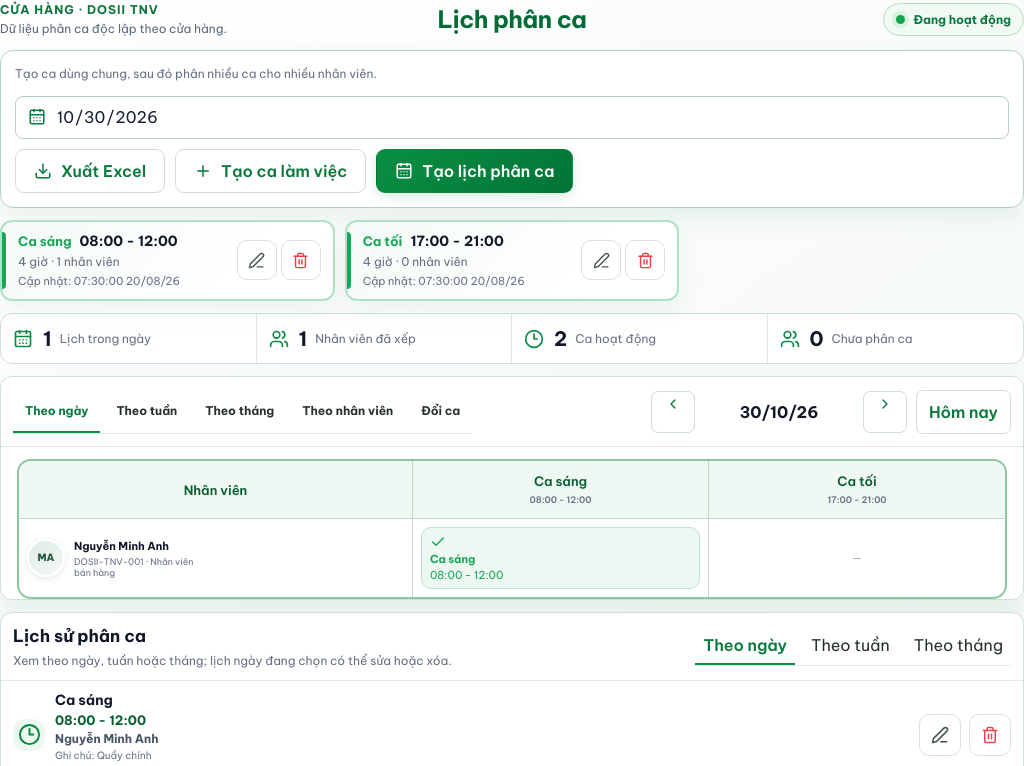
Test: store schedule visual flow › submits only the added evening shift after the same employee completed an earlier shift
Click the button "Tạo lịch phân ca" at (475, 171), box [376,149,573,193]
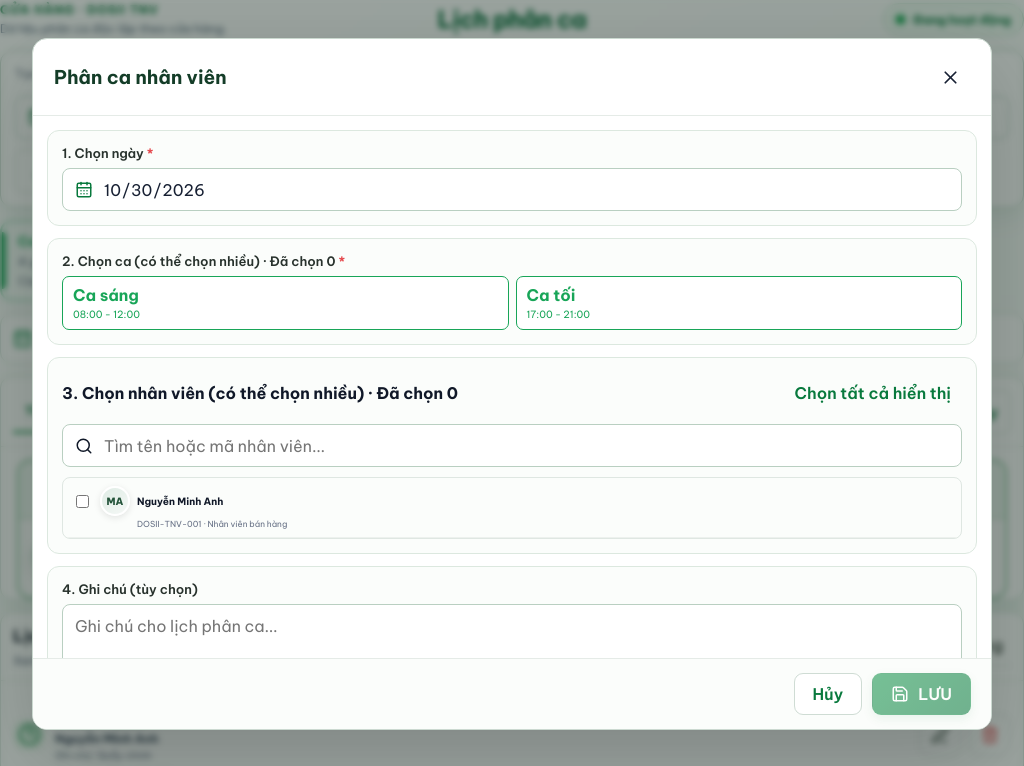
Click the button with aria-label "Chọn Ca tối" at (551, 295), box [516,276,962,330]
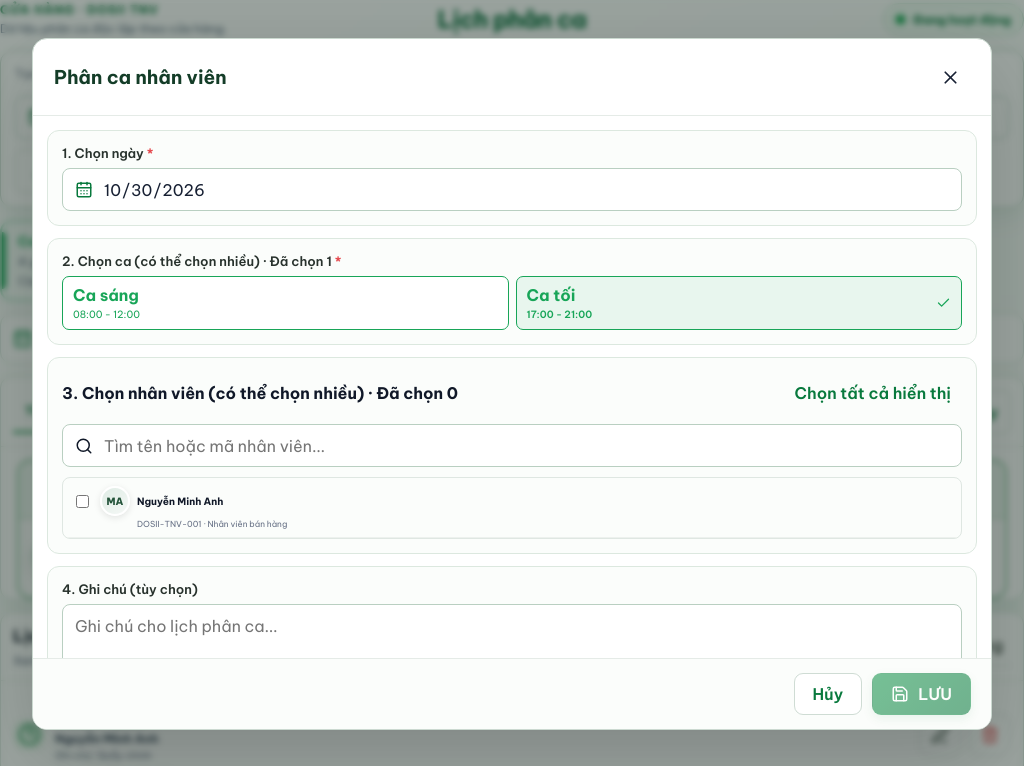
Click the checkbox labelled "MA Nguyễn Minh Anh DOSII-TNV-001 · Nhân viên bán hàng" at (82, 501), box [75,495,90,508]
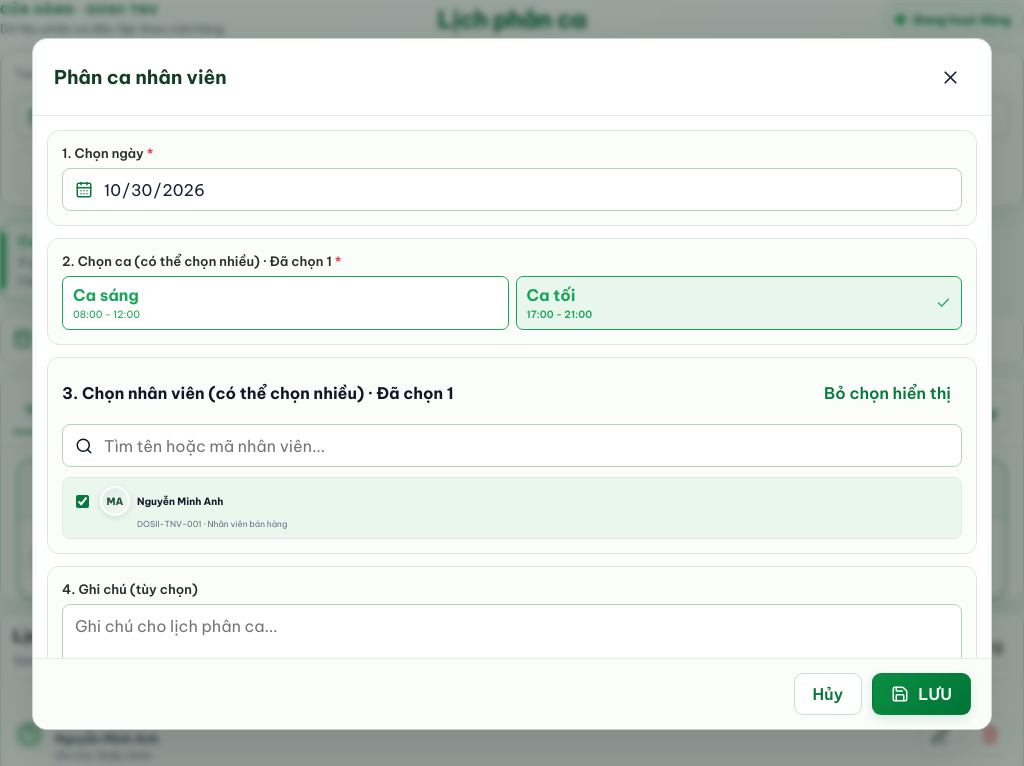
Click the button "LƯU" at (922, 694), box [872,673,971,715]
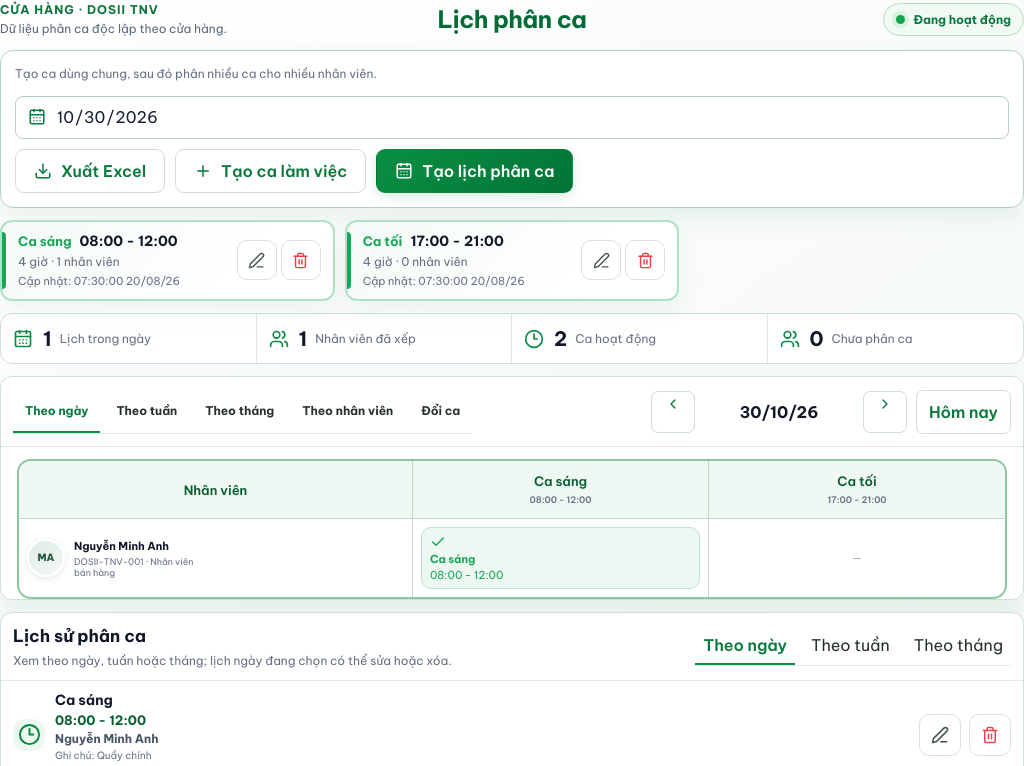
Expected: the dialog is gone
